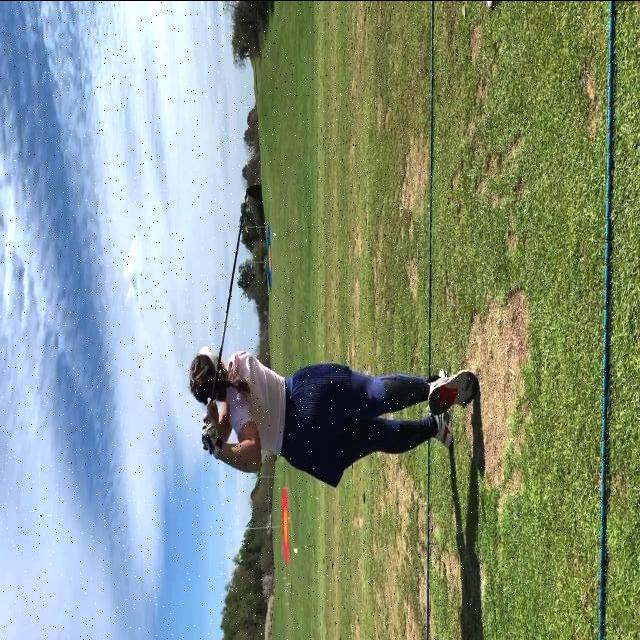golf club-handle: (203, 178, 264, 450)
golf club-head: (247, 180, 261, 198)
